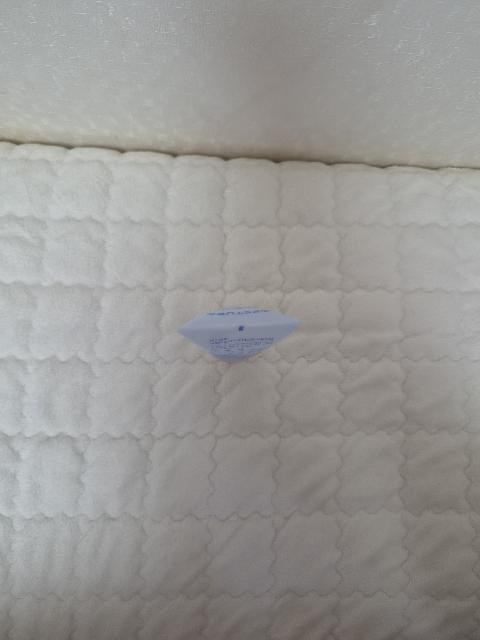handcream: (175, 306, 306, 363)
